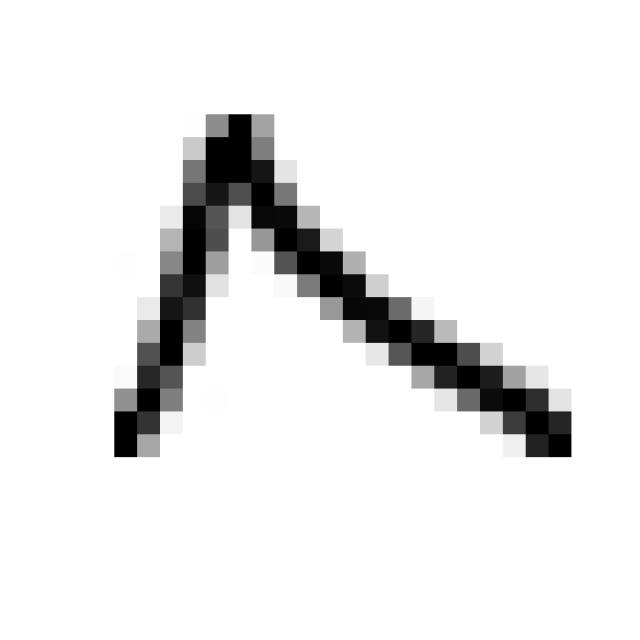8 -eight-: (84, 89, 596, 491)
